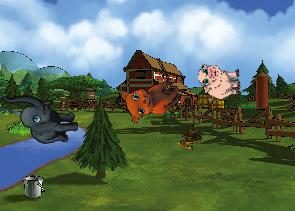bear: (115, 64, 186, 130)
elephant: (3, 84, 80, 150)
pig: (198, 61, 241, 101)
